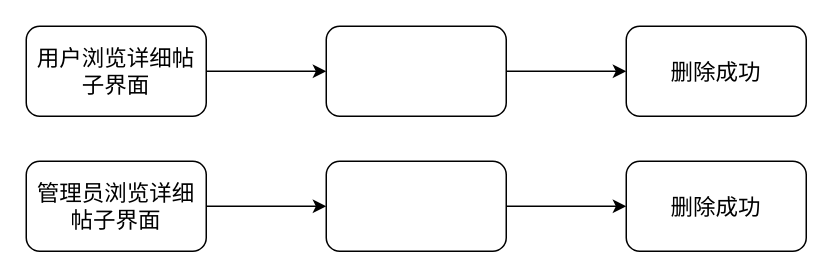
The diagram is 833 pixels wide and 278 high, and some of its shapes have lost their labels. Here are the shapes that lost their labels. From the top down, the box of each, then its label:
(325, 25, 506, 116): 删除自己的评论
(325, 160, 506, 251): 删除任意的评论
